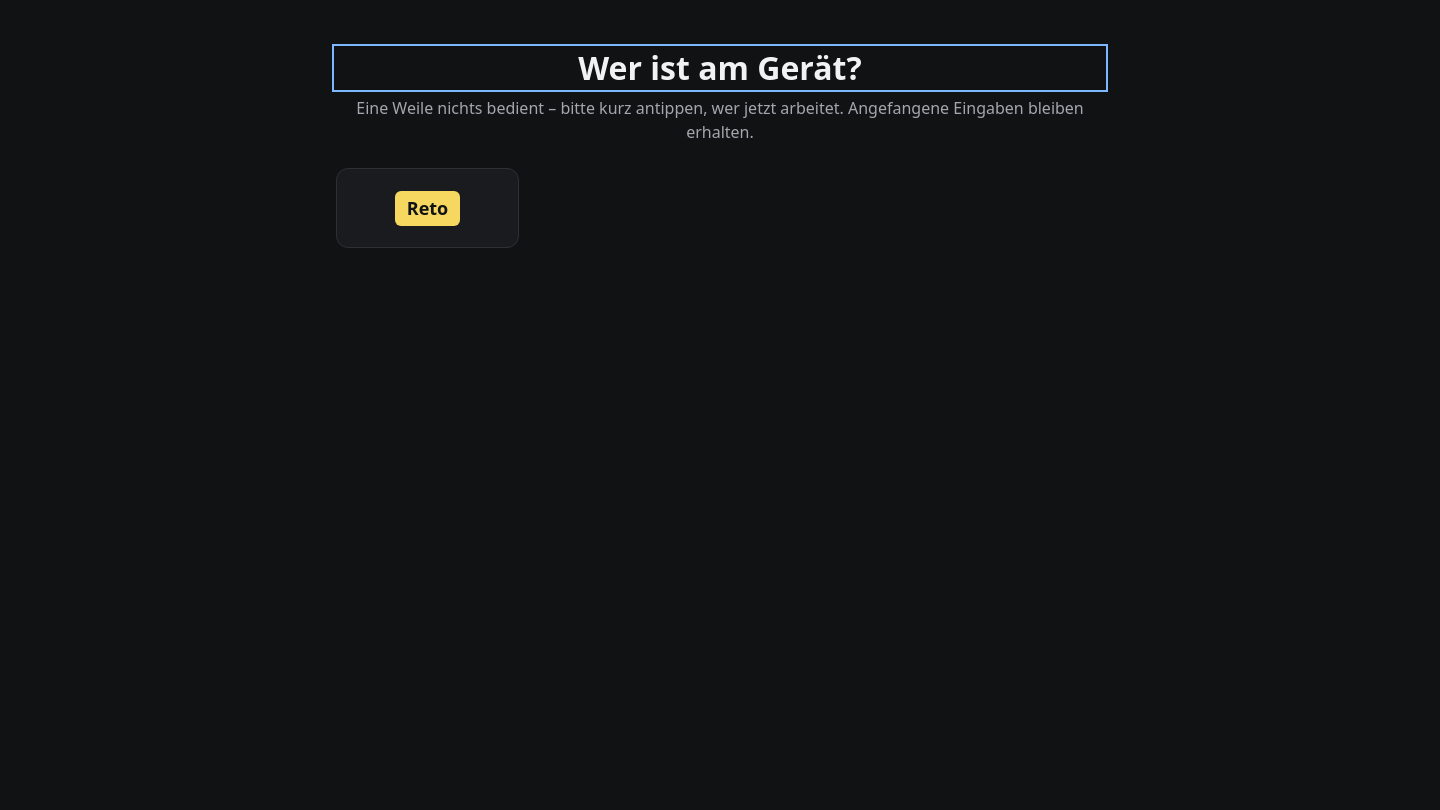
AppLayout › after five minutes without use a person is asked who is at the device – the TV never (FB-29)
The image size is (1440, 810).
Expected: the heading "Wer ist am Gerät?" is shown, [578,46,862,89]
a name chosen: unlocked
Click the button "Reto" at (428, 208), box [336,168,519,248]
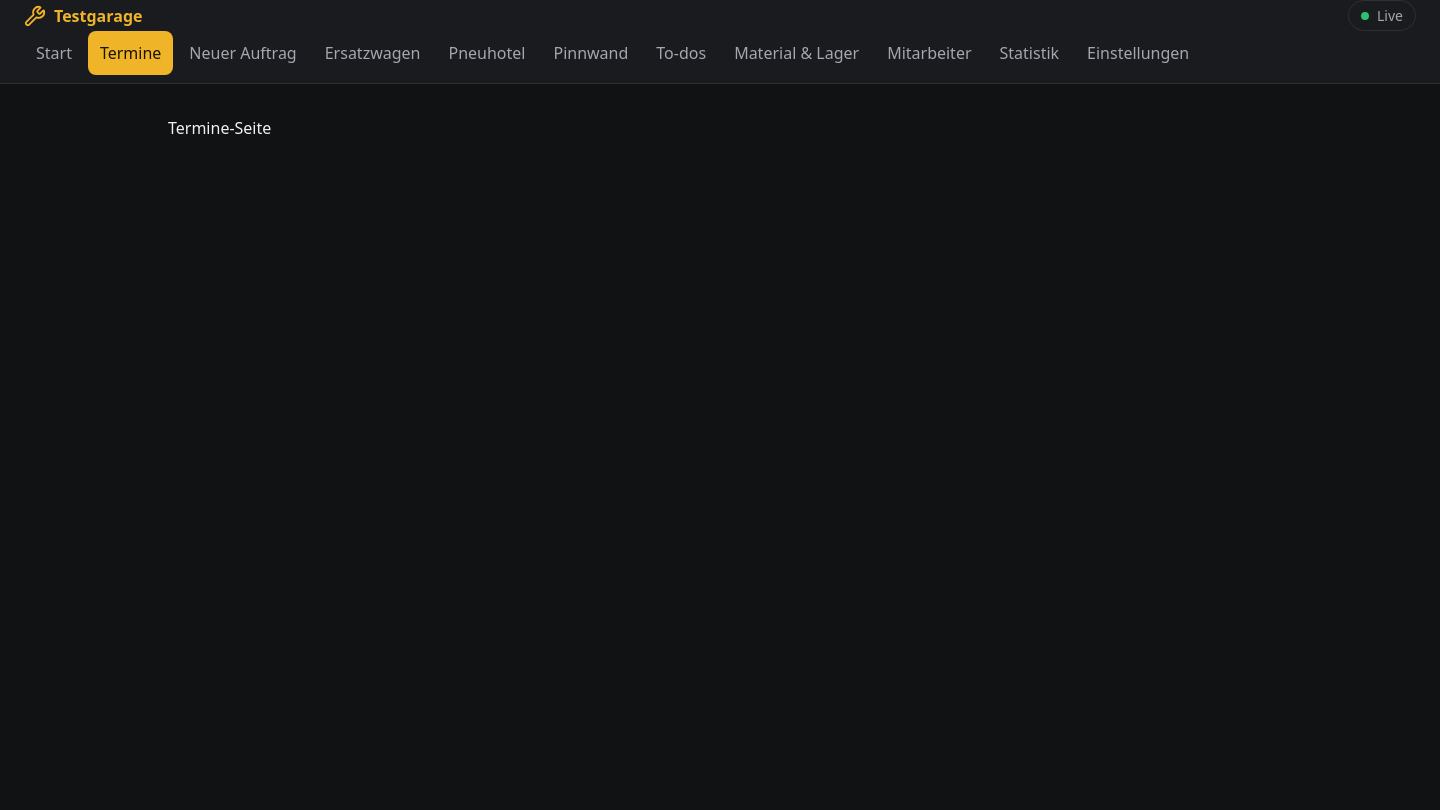
Expected: the heading "Wer ist am Gerät?" is gone
